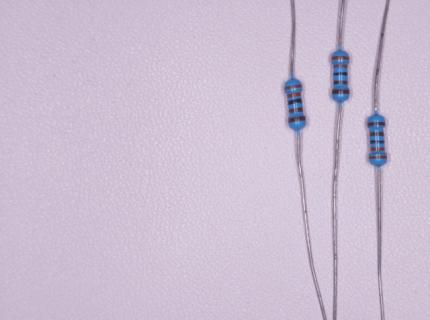Black band: (288, 98, 302, 105), (333, 72, 348, 76), (370, 140, 384, 144)
Brown band: (289, 116, 306, 123), (289, 107, 303, 114), (332, 89, 350, 94), (367, 122, 385, 127), (333, 80, 348, 85), (370, 131, 384, 136)
Orange band: (284, 84, 302, 90), (369, 155, 387, 159), (287, 92, 301, 97), (332, 56, 349, 60), (333, 65, 348, 69), (371, 147, 385, 151)
